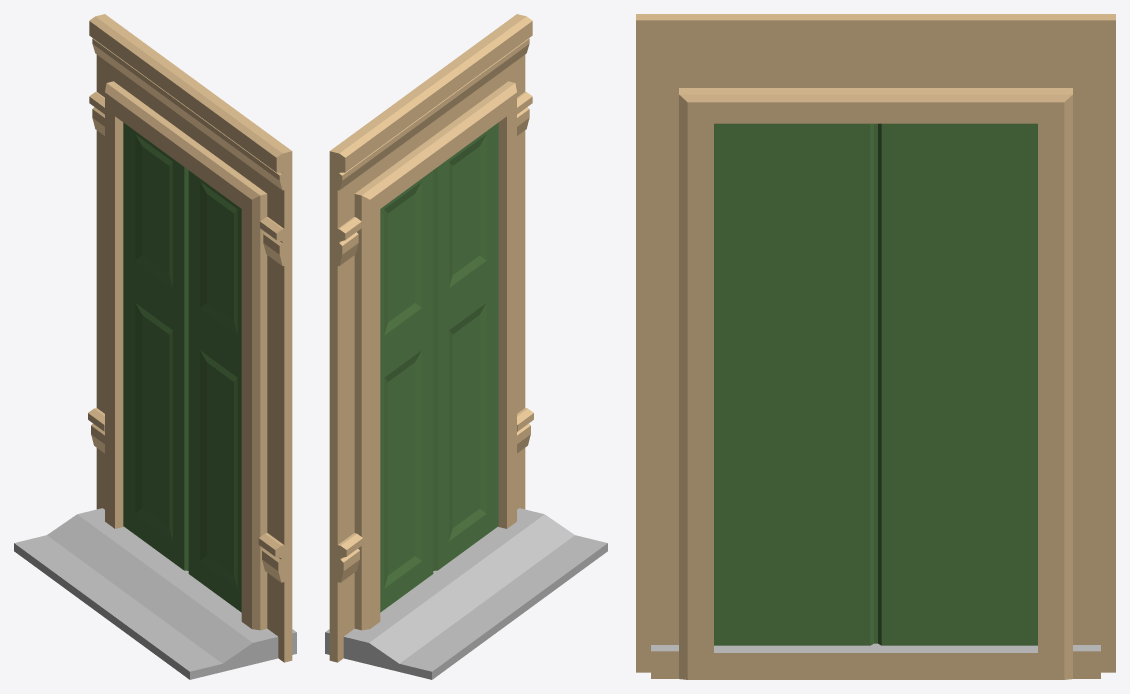
Rendered from Door_A.fbx.
The picture shows the model from 3 angles, left to right: view 1: azimuth 30°, elevation 25°; view 2: azimuth 150°, elevation 25°; view 3: azimuth 270°, elevation 25°; orthographic projection. The views are drawn at different scales.
Parts seen in each view (by area): view 1: Door_A; view 2: Door_A; view 3: Door_A.
Boxes of the visible parts, x1=… form: Door_A: x1=14, y1=14, x2=296, y2=679; Door_A: x1=325, y1=14, x2=607, y2=679; Door_A: x1=636, y1=14, x2=1115, y2=679.
Size of the model in its own units: 67.45 by 200 by 300.
